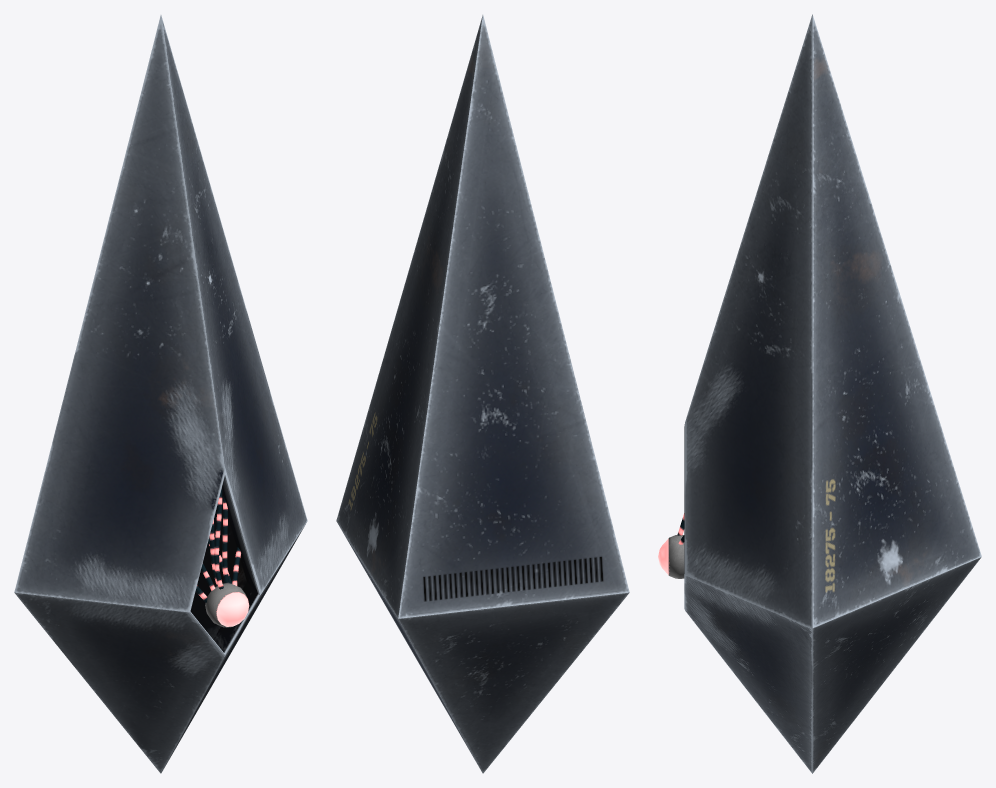
Rendered from alien_beacon.glb.
The picture shows the model from 3 angles, left to right: view 1: azimuth 30°, elevation 25°; view 2: azimuth 150°, elevation 25°; view 3: azimuth 270°, elevation 25°; orthographic projection.
Visible parts, largest first — view 1: Cube, Cylinder.002, Sphere; view 2: Cube; view 3: Cube, Sphere.
Boxes of the visible parts, bbox=[...] form: Cube: bbox=[14, 15, 307, 773]; Cylinder.002: bbox=[195, 488, 241, 602]; Sphere: bbox=[205, 583, 249, 627]; Cube: bbox=[336, 15, 629, 773]; Cube: bbox=[684, 14, 981, 773]; Sphere: bbox=[658, 535, 684, 578].
Size of the model in its own units: 2.83 by 7 by 2.7.
Materials: 3 (3 with a texture image).
